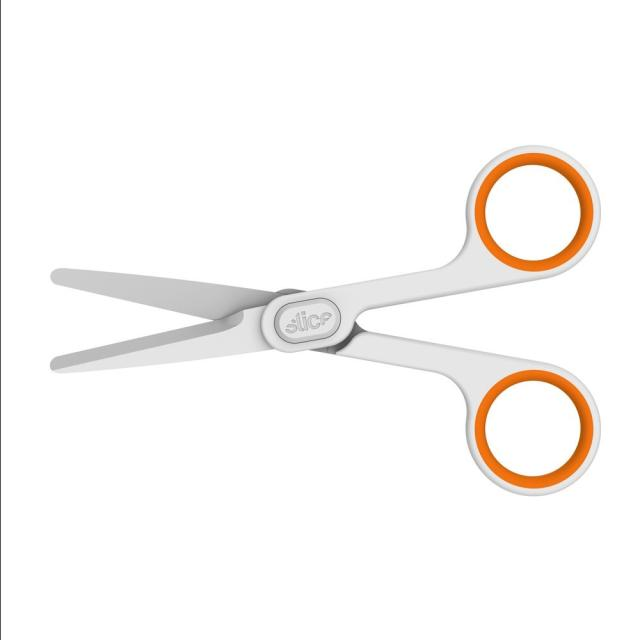Gunting: (32, 133, 611, 503)
